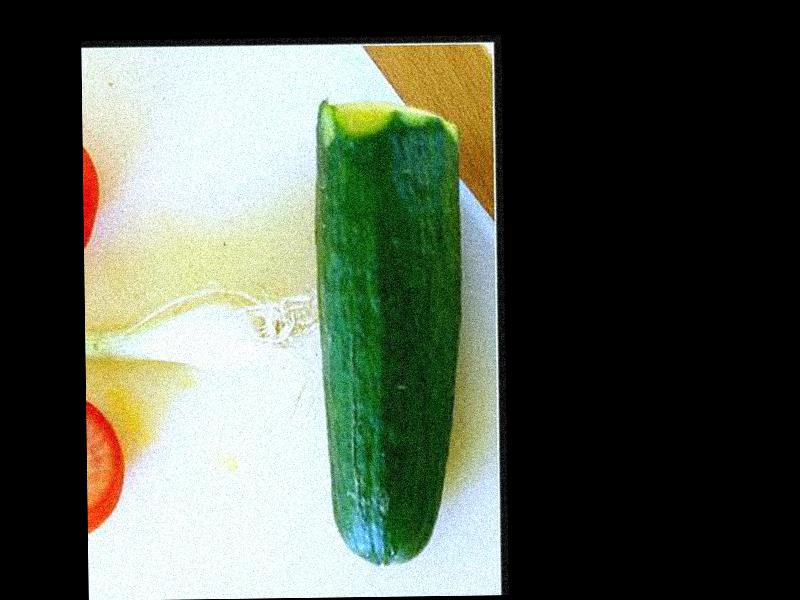Cucumber: (315, 97, 466, 569)
